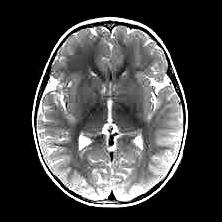Normal_Brain: (1, 3, 222, 222)
